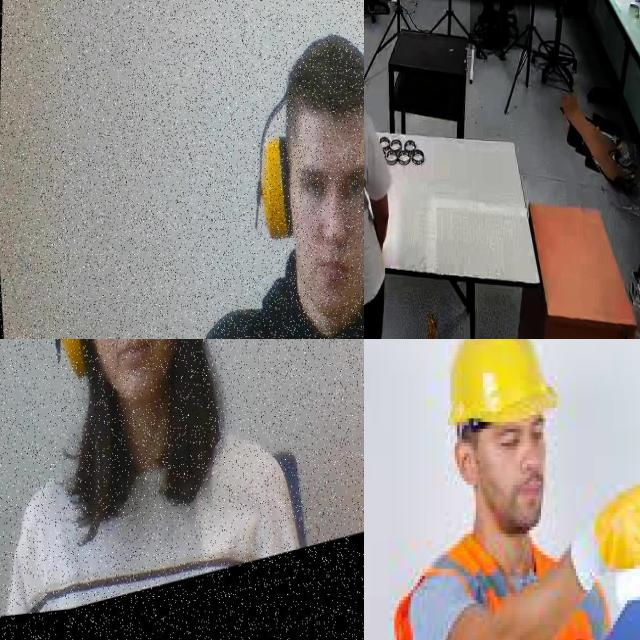Ear-protection: (42, 339, 228, 428), (250, 125, 302, 255)
No_Ear-Protection: (455, 444, 476, 484)
No_Glasses: (295, 150, 364, 221), (481, 417, 544, 470)
face_nomask: (476, 456, 543, 534)
hand_glove: (571, 491, 640, 591)
head_helmet: (449, 339, 558, 423)
person: (364, 0, 392, 339), (469, 0, 530, 50)
